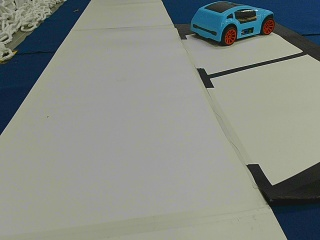car: (190, 2, 276, 45)
